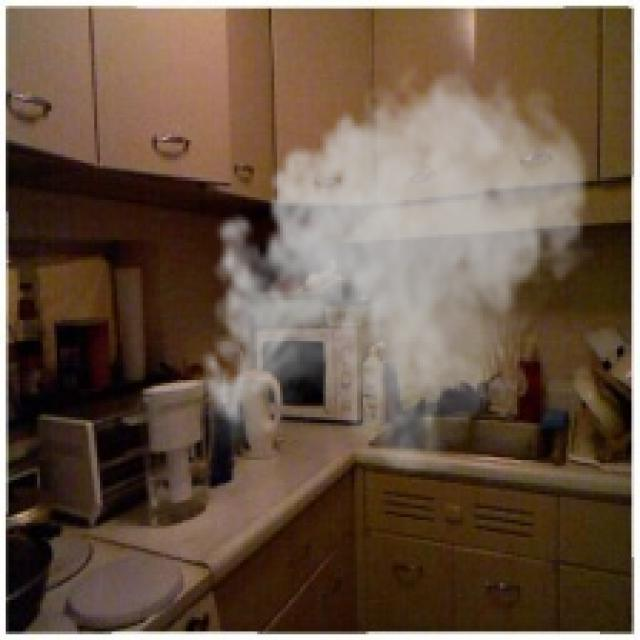Smoke: (188, 57, 598, 474)
